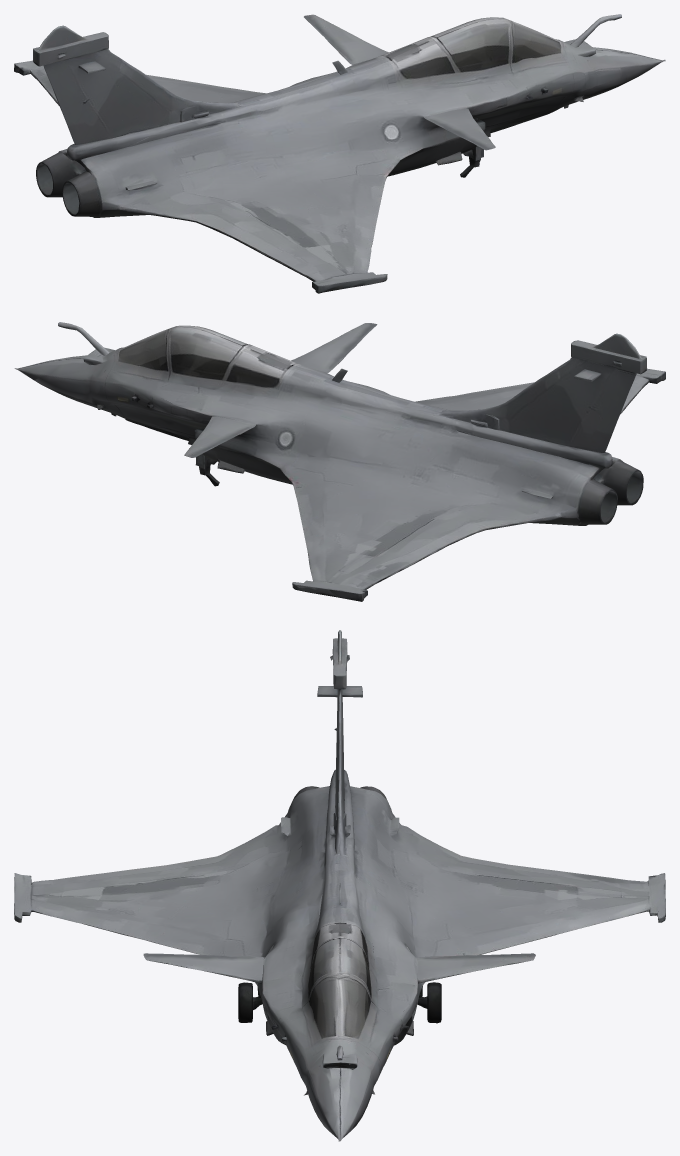
File: caca_leve.glb
3 renders of one model, top to bottom at view 1: azimuth 30°, elevation 25°; view 2: azimuth 150°, elevation 25°; view 3: azimuth 270°, elevation 25°, orthographic. The views are drawn at different scales.
Parts seen in each view (by area): view 1: tripo_node_da3f3a08-e2d0-4019-8abe-310ce13fe0a8; view 2: tripo_node_da3f3a08-e2d0-4019-8abe-310ce13fe0a8; view 3: tripo_node_da3f3a08-e2d0-4019-8abe-310ce13fe0a8.
Boxes of the visible parts, bbox=[...] form: tripo_node_da3f3a08-e2d0-4019-8abe-310ce13fe0a8: bbox=[14, 14, 665, 293]; tripo_node_da3f3a08-e2d0-4019-8abe-310ce13fe0a8: bbox=[14, 322, 665, 601]; tripo_node_da3f3a08-e2d0-4019-8abe-310ce13fe0a8: bbox=[14, 630, 665, 1141].
Size of the model in its own units: 0.9984 by 0.4007 by 0.8365.
Materials: 1 (1 with a texture image).
